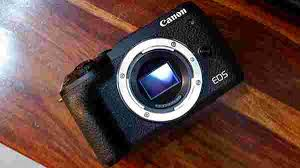camera: (60, 4, 236, 162)
